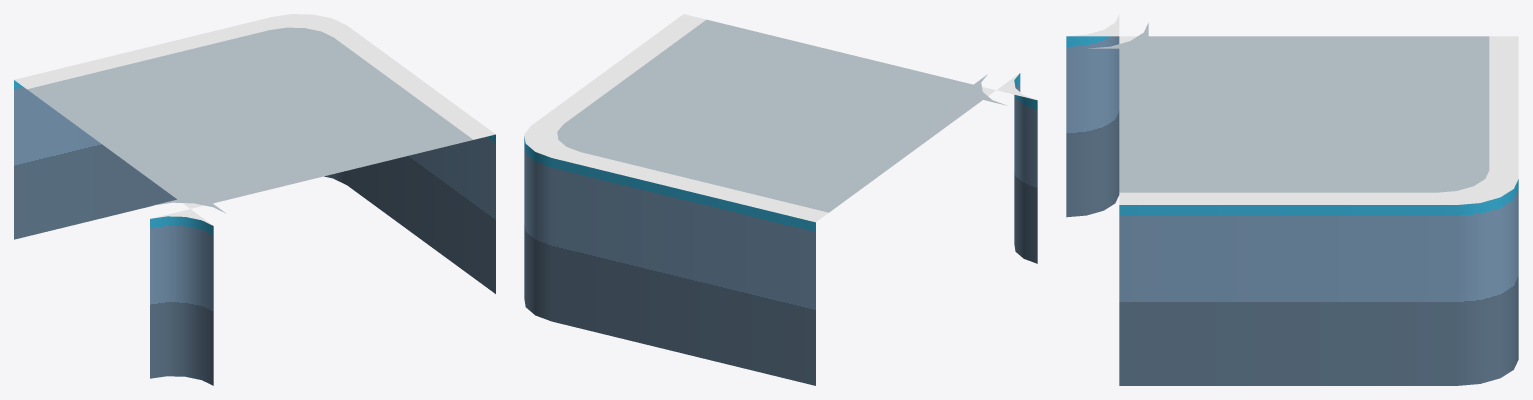
File: TileFace0110Corner_0__.fbx
3 renders of one model, left to right at view 1: azimuth 30°, elevation 25°; view 2: azimuth 150°, elevation 25°; view 3: azimuth 270°, elevation 25°, orthographic. The views are drawn at different scales.
Visible parts, largest first — view 1: Face0110Corner_0__v1_; view 2: Face0110Corner_0__v1_; view 3: Face0110Corner_0__v1_.
Part boxes in pixels (box(x1,y1,x2,y2)): Face0110Corner_0__v1_: box(14, 14, 495, 385); Face0110Corner_0__v1_: box(524, 14, 1037, 385); Face0110Corner_0__v1_: box(1066, 14, 1518, 385).
Size of the model in its own units: 113 by 50.01 by 113.
